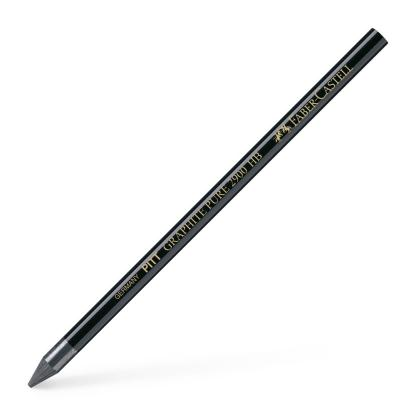pencil: (22, 24, 401, 390)
